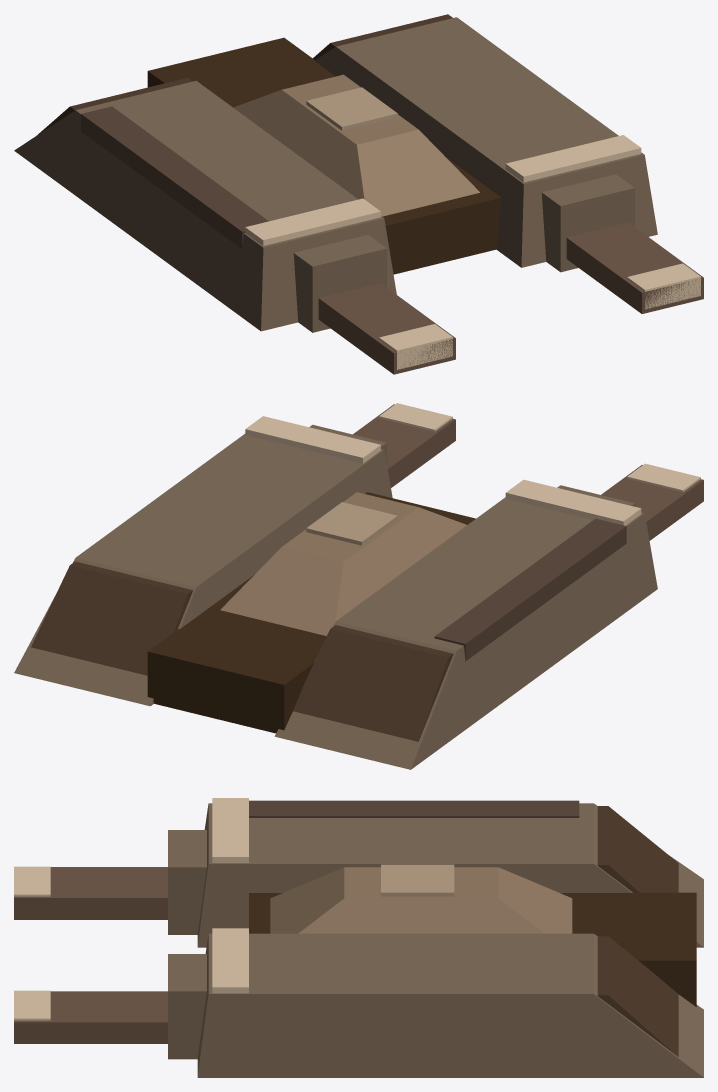
File: newsh3-14-f4.glb
3 views of the same model, one above another, from view 1: azimuth 30°, elevation 25°; view 2: azimuth 150°, elevation 25°; view 3: azimuth 270°, elevation 25° (orthographic). The views are drawn at different scales.
Parts seen in each view (by area): view 1: newsh3-14-f4; view 2: newsh3-14-f4; view 3: newsh3-14-f4.
Part boxes in pixels (bbox=[...]): newsh3-14-f4: bbox=[14, 14, 703, 374]; newsh3-14-f4: bbox=[14, 403, 703, 769]; newsh3-14-f4: bbox=[14, 798, 703, 1077].
Bounding box in the file's own units: 1.07 × 0.25 × 1.57.
